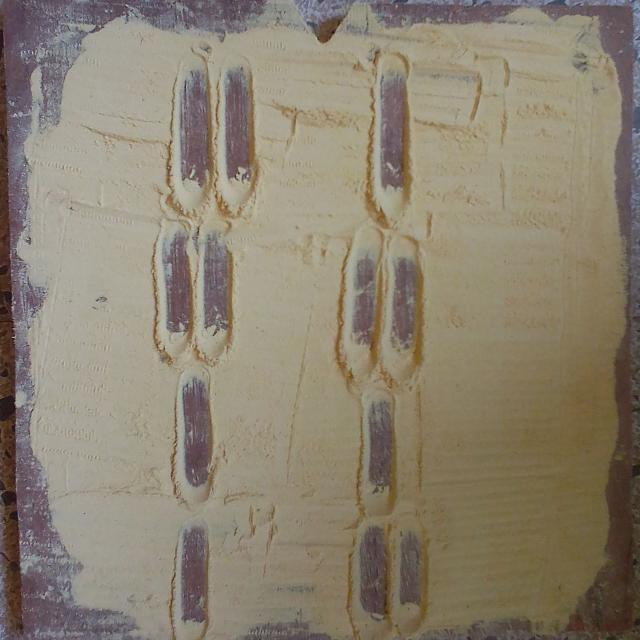double: (168, 54, 262, 190), (152, 232, 240, 344), (333, 247, 426, 352), (349, 518, 437, 628)
single: (173, 370, 221, 486), (376, 70, 418, 198), (177, 514, 217, 626), (360, 382, 400, 494)
